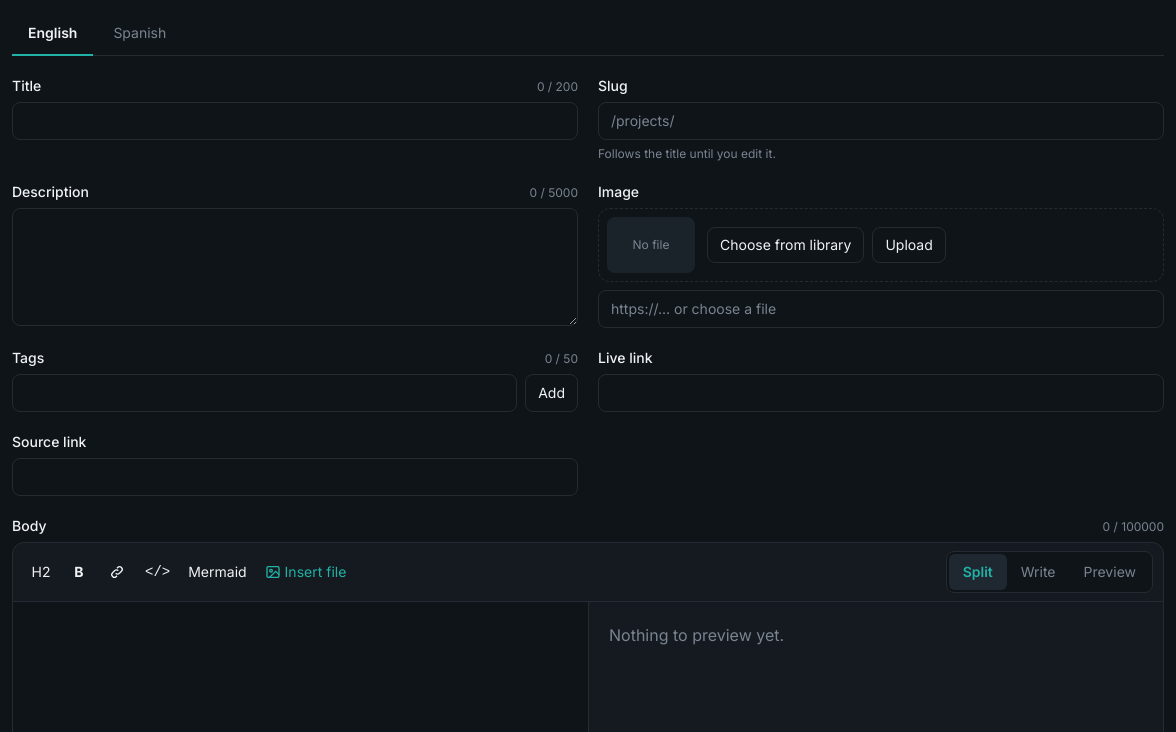
Test: ItemForm fields › renders a list as a chip input with an n / max counter
The image size is (1176, 732).
Expected: the text "0 / 50" is shown, [545,351,578,367]
In the field labelled "Tags": (265, 393) [12,374,517,412], type "Angular"
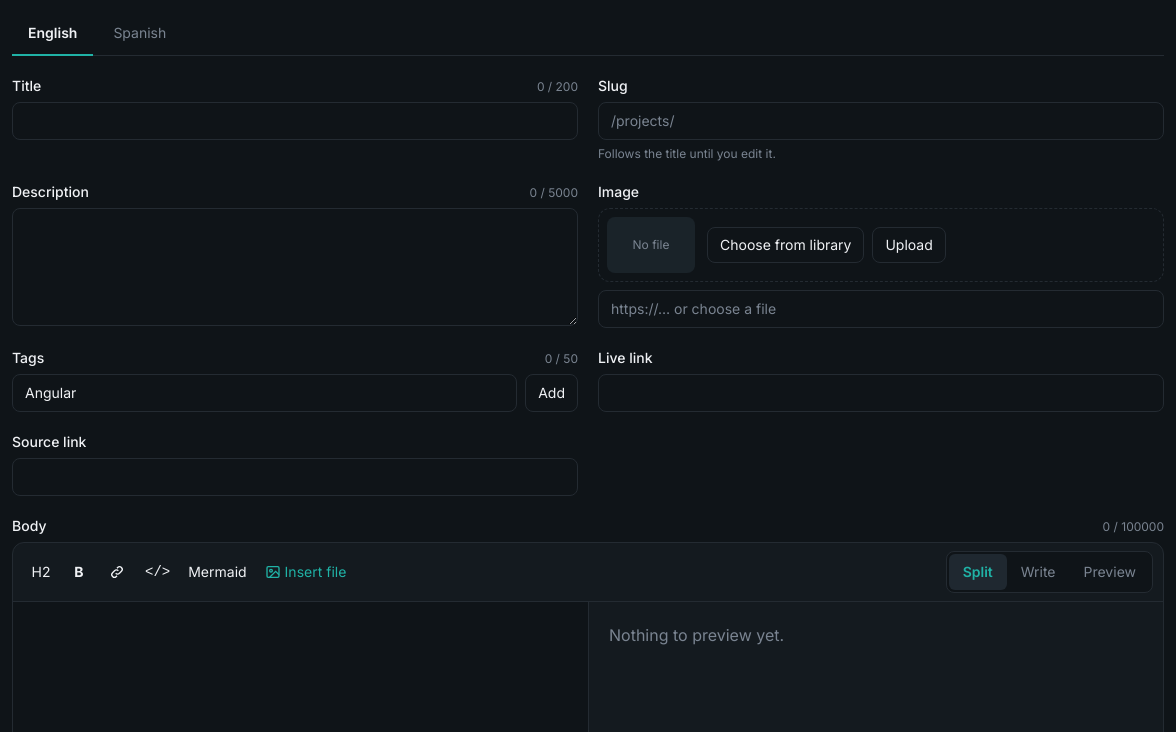
Press Enter in the field labelled "Tags", box [12,374,517,412]
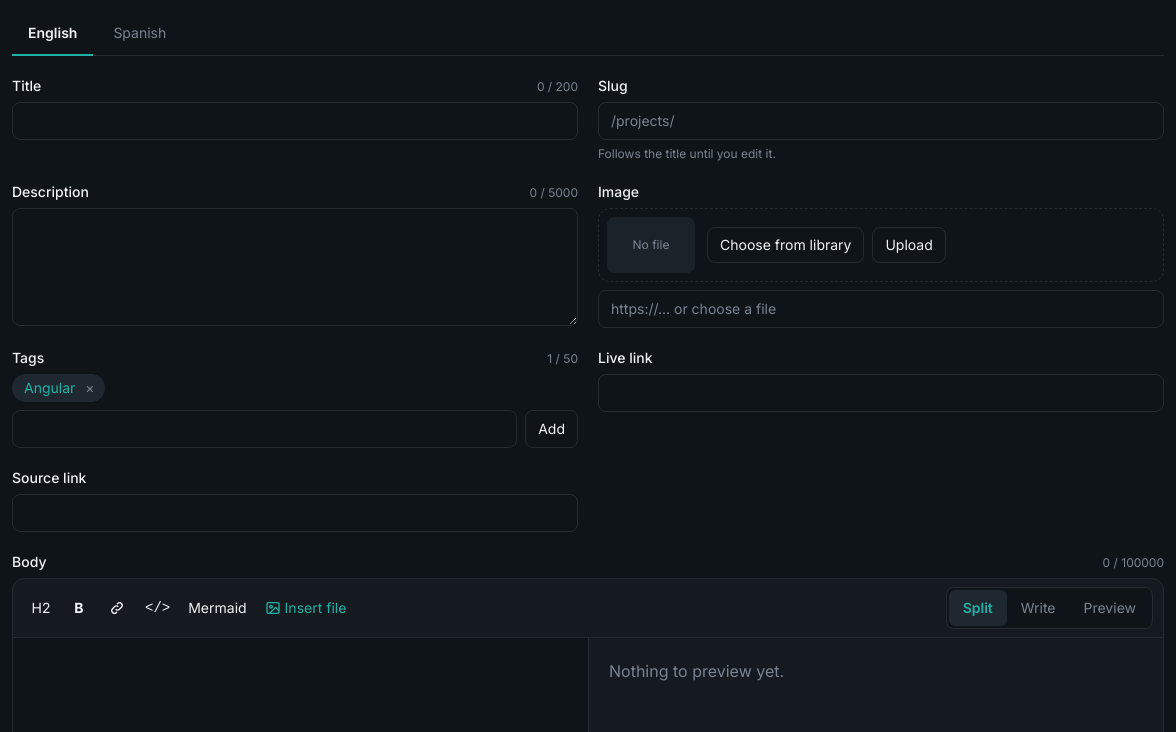
In the field labelled "Tags": (265, 429) [12,410,517,448], type "NestJS"
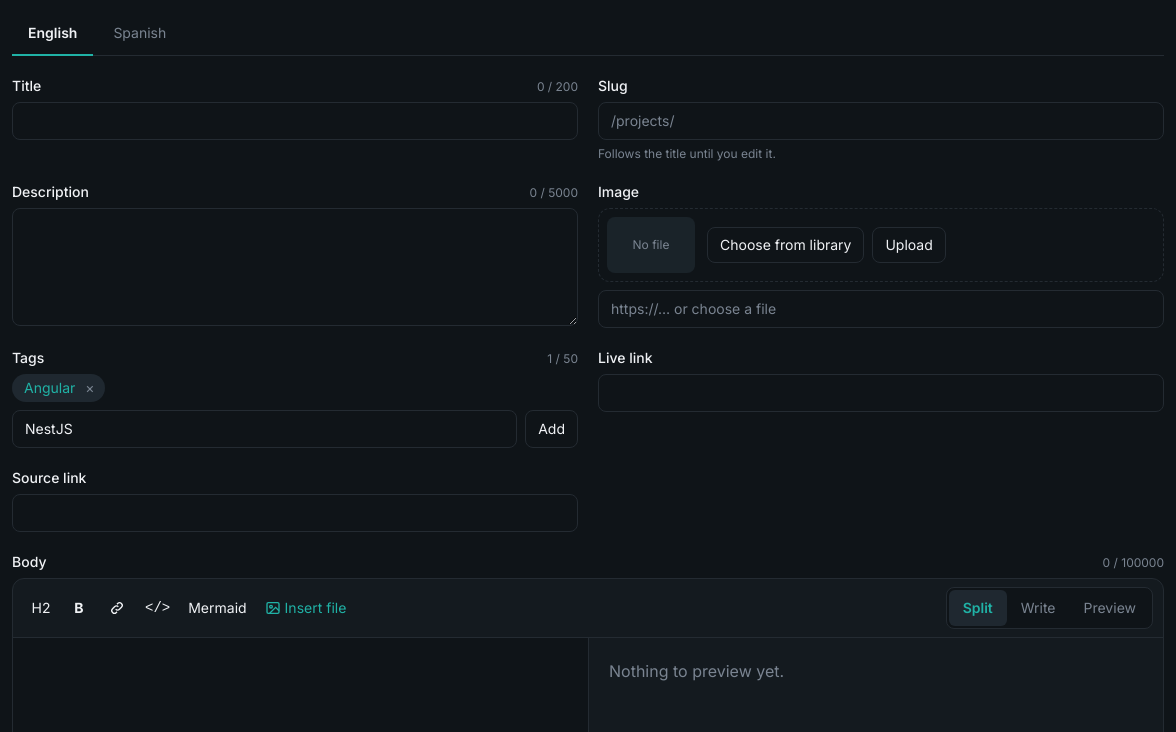
Click the button "Add": (552, 429) [525,410,578,448]
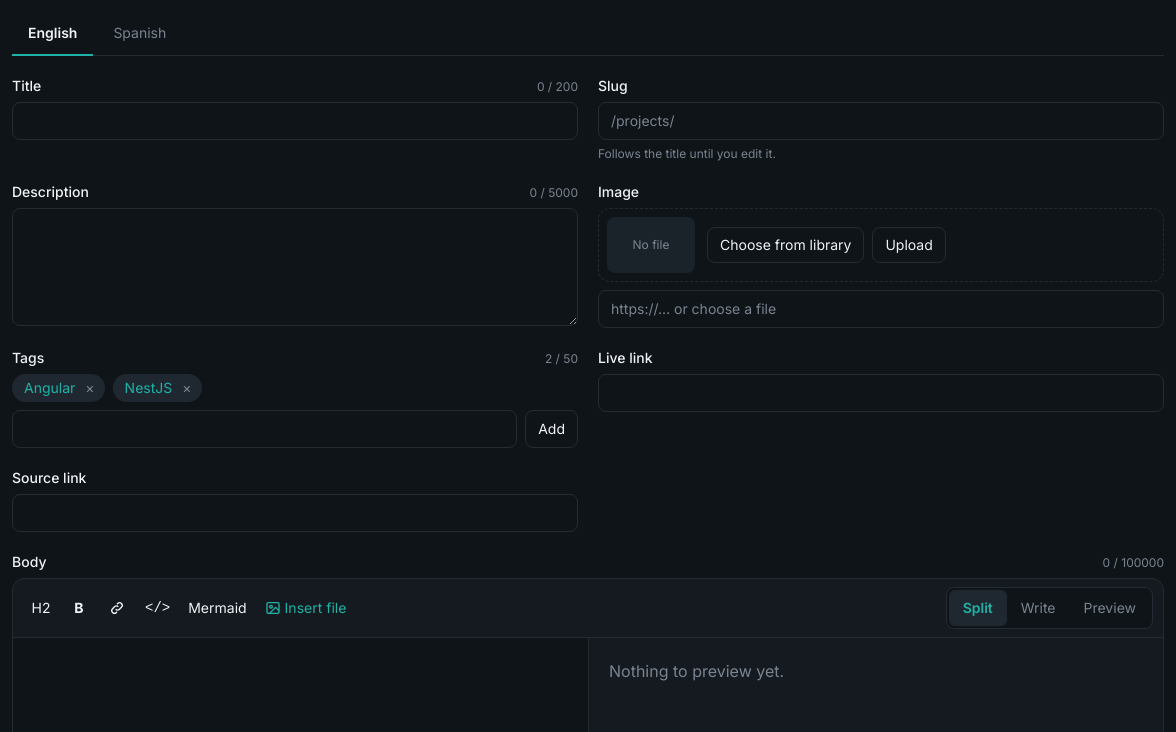
Now the text "Angular" is shown, box [24,378,75,398]
Now the text "NestJS" is shown, box [125,378,172,398]
Now the text "2 / 50" is shown, box [545,351,578,367]
Click the button named "Remove Angular": (90, 388) [79,378,101,398]
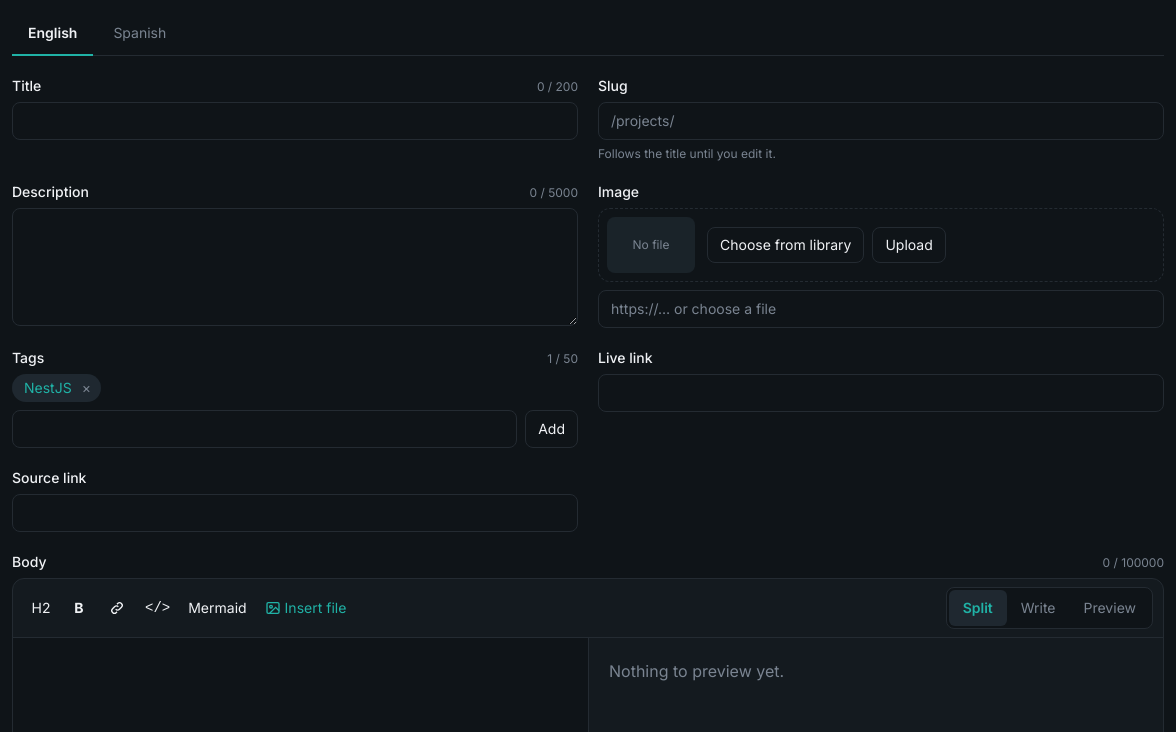
Now the text "Angular" is gone
Now the text "1 / 50" is shown, box [547,351,578,367]
